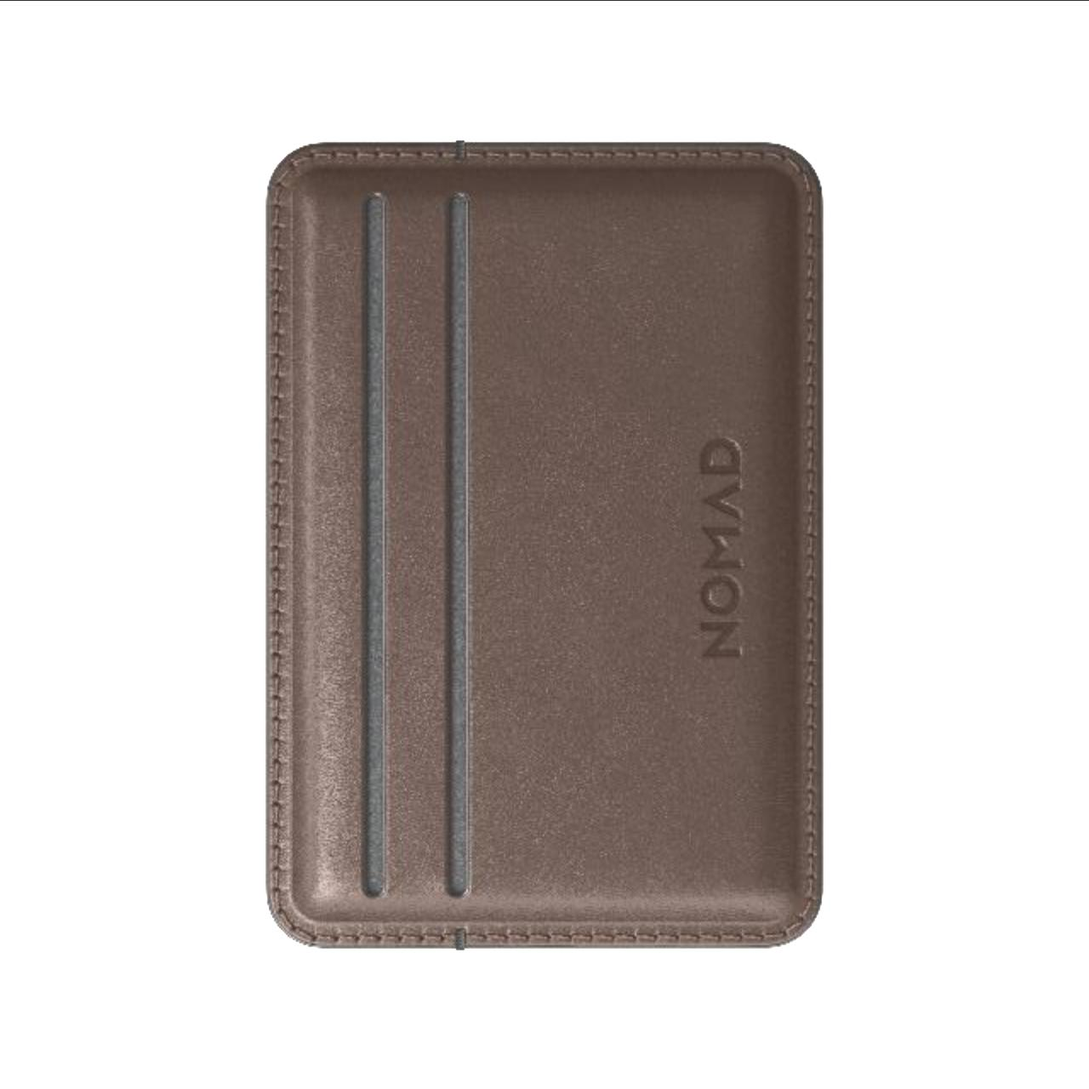wallet: (224, 97, 874, 989)
